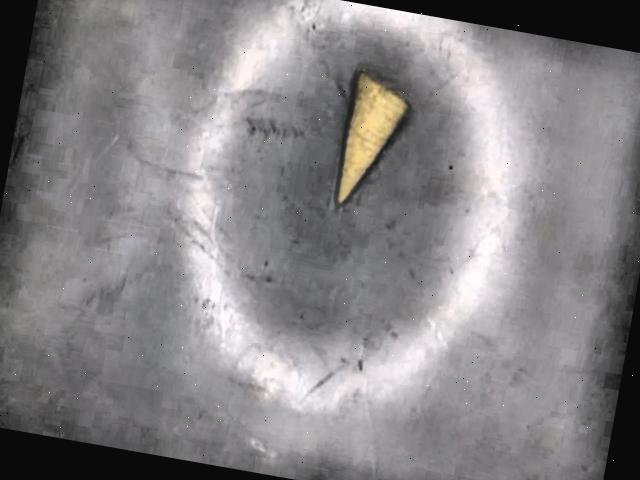Almennt: (336, 67, 410, 209)
